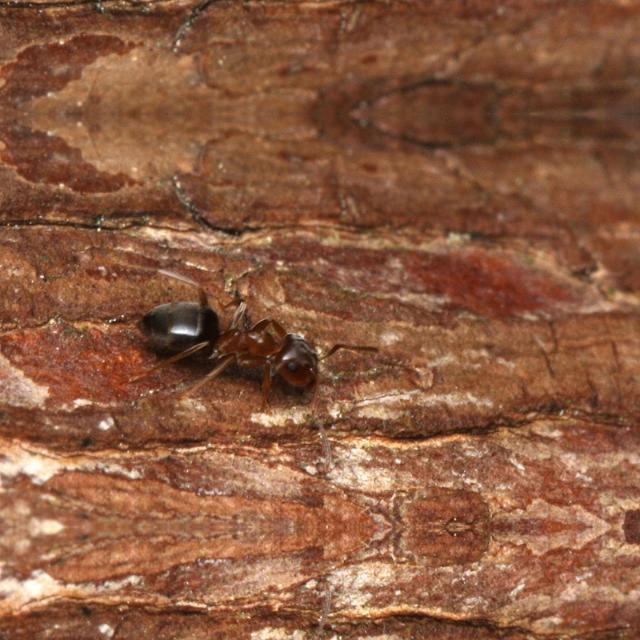Lasius: (118, 262, 352, 402)
